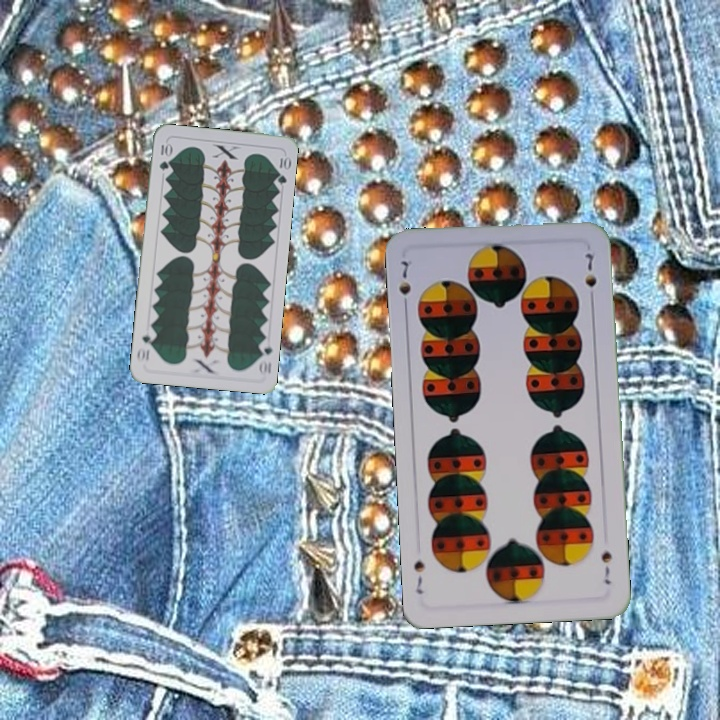G10: (254, 337, 275, 378), (155, 139, 173, 173)
S7: (394, 256, 414, 313), (597, 547, 614, 587)
